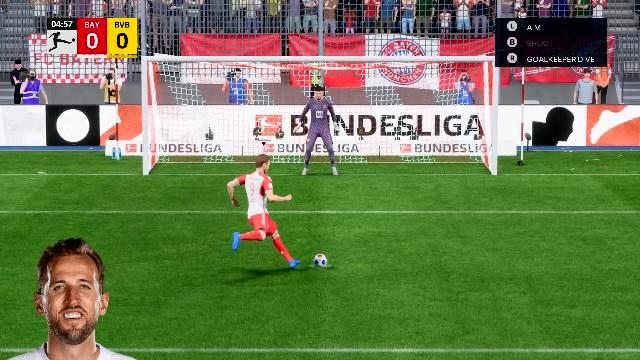bottom-left: (150, 124, 264, 176)
bottom-right: (380, 124, 488, 176)
center-down: (266, 124, 378, 176)
center-up: (266, 64, 378, 122)
circle: (309, 262, 331, 266)
football: (310, 252, 330, 266)
goalkeeper: (290, 90, 354, 178)
player: (225, 154, 302, 272)
top-left: (150, 63, 264, 123)
top-right: (380, 65, 484, 124)
